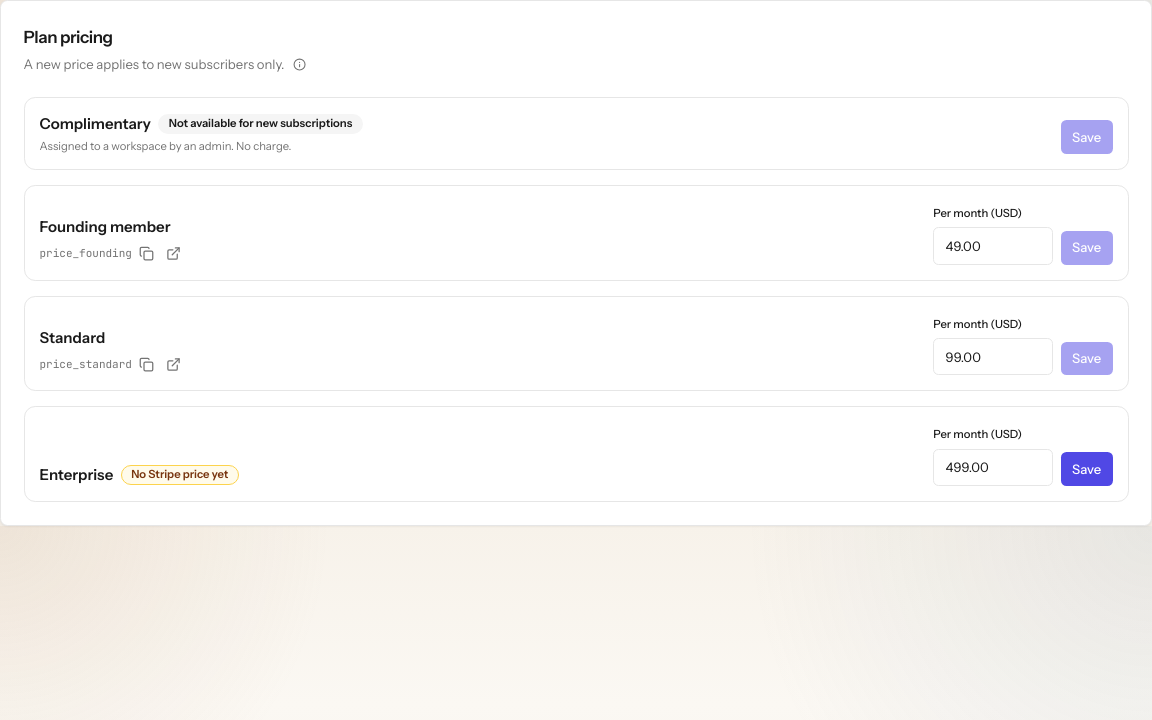
Test: PlatformPlanPricing › can create the first price at the amount already shown
The image size is (1152, 720).
What coordinates should you click on to do the following:
click the button "Save" in the row of "No Stripe price yet"
I would click on:
 (1087, 469)
Its box is [1061, 452, 1112, 486].
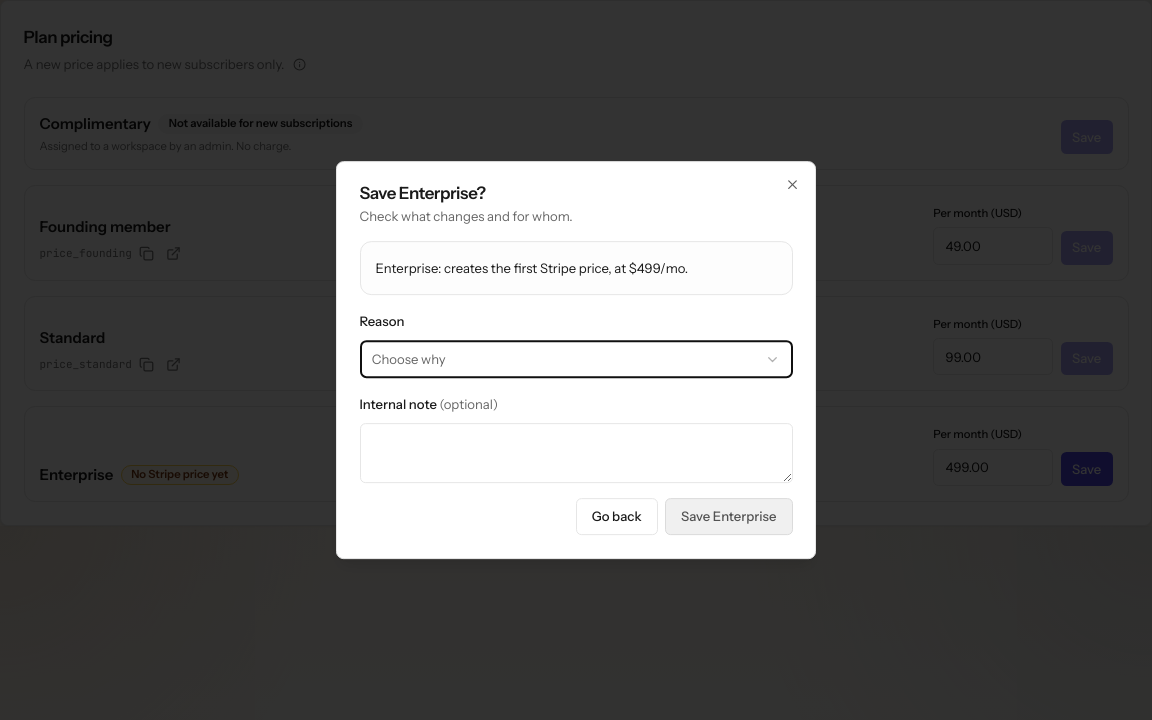
Expected: the list item "Enterprise: creates the first Stripe price, at $499/mo." is shown, [376, 260, 688, 276]
